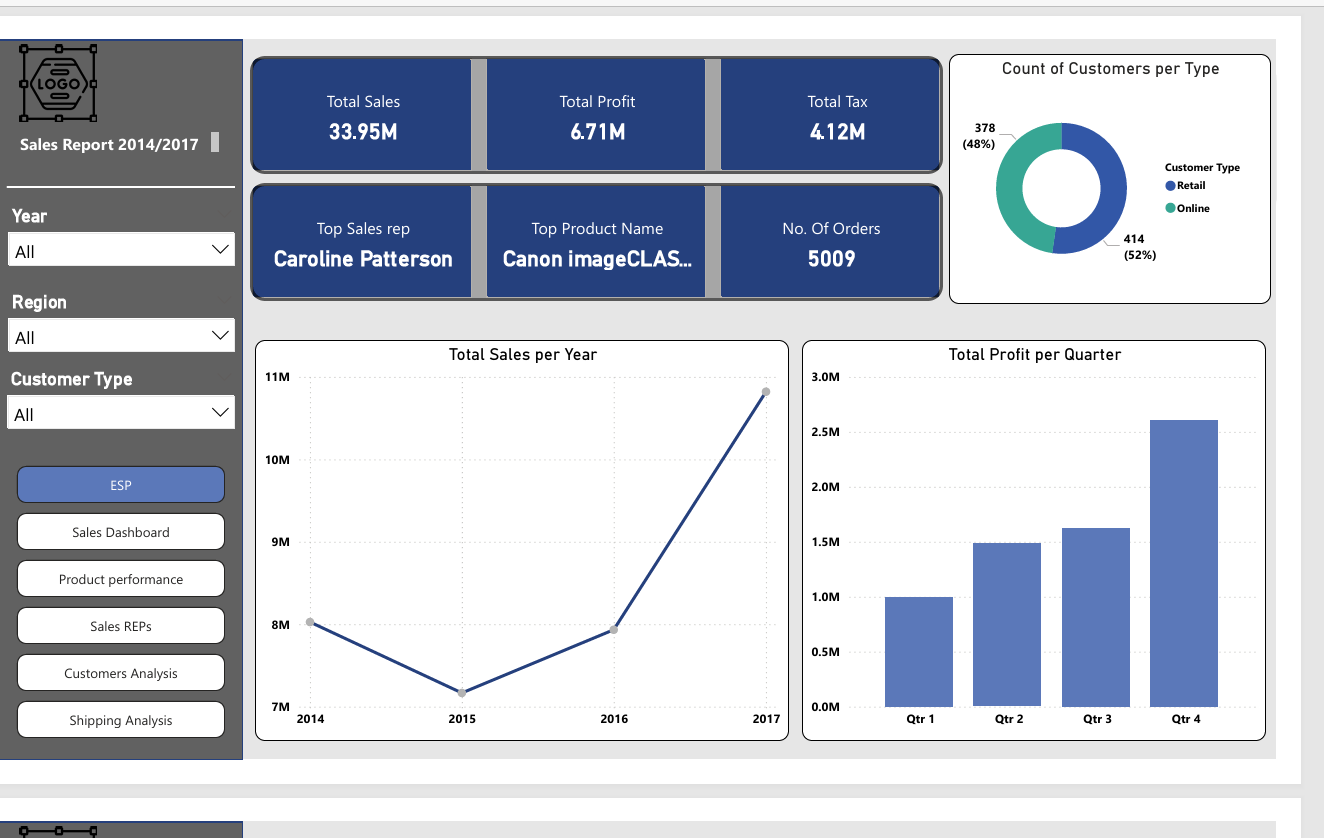

Layout of this report page (visuals, bound fields, positions):
{"tool":"powerbi","page":{"name":"ESP","canvas":[1280,720],"ordinal":0},"visuals":[{"type":"cardVisual","fields":{"Data":["Sum(Orders_details.Total Sales)","Sum(Orders_details.Profit Value)","Sum(Orders_details.Tax Value)"]},"box":[248.3,10.6,704.3,128.5],"z":0},{"type":"shape","box":[0.4,0,246,720],"z":1000},{"type":"cardVisual","fields":{"Data":["Table.Top Sales rep","Table.Top Product Name","Count(Orders.Order ID)"]},"box":[247.7,138.2,704.2,128.2],"z":2000},{"type":"lineChart","title":"Total Sales per Year","fields":{"Category":["Orders.OrderDate.Variation.Date Hierarchy.Year","Orders.OrderDate.Variation.Date Hierarchy.Quarter"],"Y":["Sum(Orders_details.Total Sales)"]},"box":[257.8,299.5,534.2,401.8],"z":3000},{"type":"pageNavigator","box":[20.2,426.2,207.4,275],"z":3000,"group":"g1"},{"type":"image","box":[0,0,124,88],"z":4000,"group":"g2"},{"type":"clusteredColumnChart","title":"Total Profit per Quarter","fields":{"Category":["Orders.OrderDate.Variation.Date Hierarchy.Quarter"],"Y":["Sum(Orders_details.Profit Value)"]},"box":[805,299.5,463.7,401.8],"z":4000},{"type":"group","id":"g1","title":"Group 2","box":[0,0,248,701.3],"z":5000},{"type":"textbox","box":[18,88,210,30],"z":5000,"group":"g2"},{"type":"group","id":"g2","title":"Group 1","box":[0,0,248,322],"z":5001,"group":"g1"},{"type":"shape","box":[10,134,228,26],"z":6000,"group":"g2"},{"type":"slicer","fields":{"Values":["Customers.Customer Type"]},"box":[1.4,322.6,246.2,76.3],"z":6000},{"type":"donutChart","title":"Count of Customers per Type","fields":{"Category":["Customers.Customer Type"],"Y":["CountNonNull(Customers.Customer ID)"]},"box":[951.8,14.4,322.6,249.1],"z":7000},{"type":"slicer","fields":{"Values":["Orders.OrderDate.Variation.Date Hierarchy.Year"]},"box":[2,160,246,76],"z":7000,"group":"g2"},{"type":"slicer","fields":{"Values":["Shipping.Region"]},"box":[2,246,246,76],"z":8000,"group":"g2"}]}

Visuals, with their boxes on the page's 1280x720 design canvas (x1, y1, x2, y2). These are canvas units, not pixel positions in the 1324x838 screenshot, which may show the page scaled, cropped or inside an application window:
cardVisual - Sum(Orders_details.Total Sales) x Sum(Orders_details.Profit Value): (left=248, top=11, right=953, bottom=139)
shape: (left=0, top=0, right=246, bottom=720)
cardVisual - Table.Top Sales rep x Table.Top Product Name: (left=248, top=138, right=952, bottom=266)
"Total Sales per Year" lineChart: (left=258, top=300, right=792, bottom=701)
pageNavigator: (left=20, top=426, right=228, bottom=701)
image: (left=0, top=0, right=124, bottom=88)
"Total Profit per Quarter" clusteredColumnChart: (left=805, top=300, right=1269, bottom=701)
"Group 2" group: (left=0, top=0, right=248, bottom=701)
textbox: (left=18, top=88, right=228, bottom=118)
"Group 1" group: (left=0, top=0, right=248, bottom=322)
shape: (left=10, top=134, right=238, bottom=160)
slicer - Customers.Customer Type: (left=1, top=323, right=248, bottom=399)
"Count of Customers per Type" donutChart: (left=952, top=14, right=1274, bottom=264)
slicer - Orders.OrderDate.Variation.Date Hierarchy.Year: (left=2, top=160, right=248, bottom=236)
slicer - Shipping.Region: (left=2, top=246, right=248, bottom=322)
